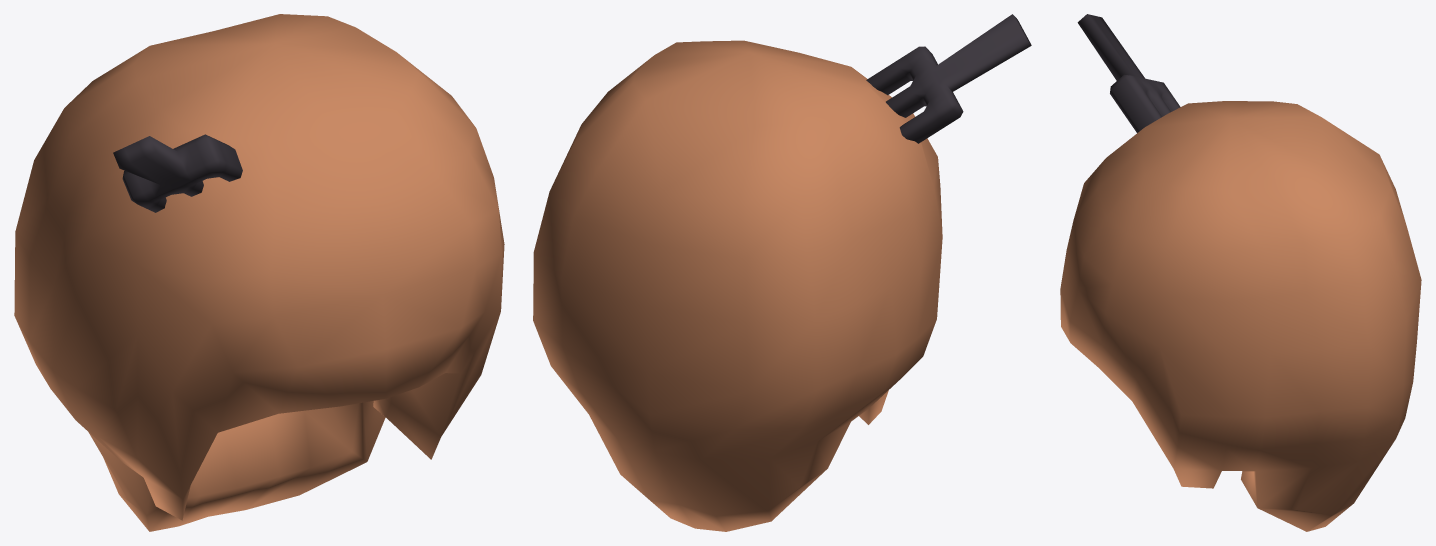
Rendered from Afro2.fbx.
3 views of the same model, side by side, from view 1: azimuth 30°, elevation 25°; view 2: azimuth 150°, elevation 25°; view 3: azimuth 270°, elevation 25° (orthographic). The views are drawn at different scales.
Visible parts, largest first — view 1: Afro; view 2: Afro; view 3: Afro.
Boxes of the visible parts, x1=… form: Afro: x1=14, y1=14, x2=504, y2=531; Afro: x1=533, y1=14, x2=1031, y2=531; Afro: x1=1060, y1=14, x2=1421, y2=531.
Bounding box in the file's own units: 0.3621 × 0.4263 × 0.3322.
